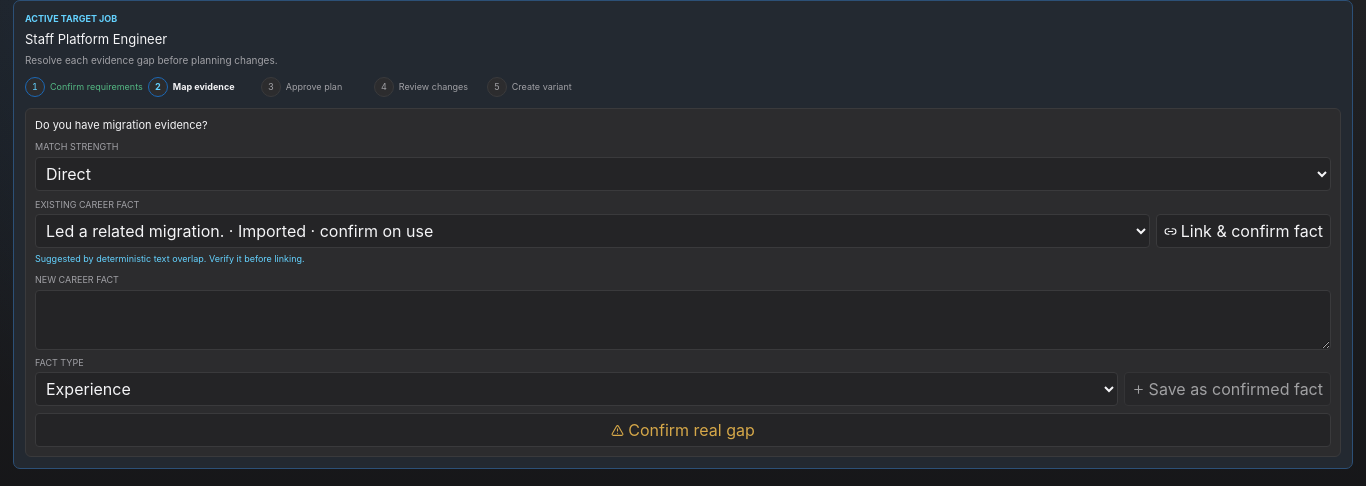
Test: AgentWorkflowPanel › links and confirms an existing imported fact for an open question
The width and height of the screenshot is (1366, 486).
Expected: the text "Suggested by deterministic text overlap. Verify it before linking." is shown, [35, 253, 305, 264]
Select "Partial" in the dropdown labelled "Match strength" at (683, 174), box [35, 157, 1331, 191]
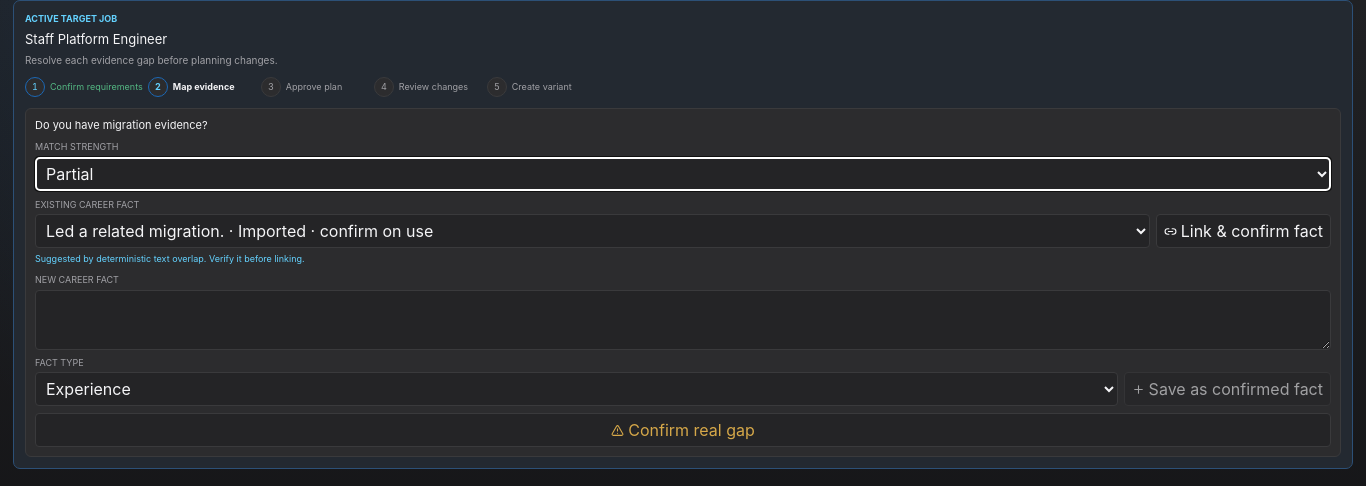
Click the button "Link & confirm fact" at (1243, 231), box [1156, 214, 1331, 248]
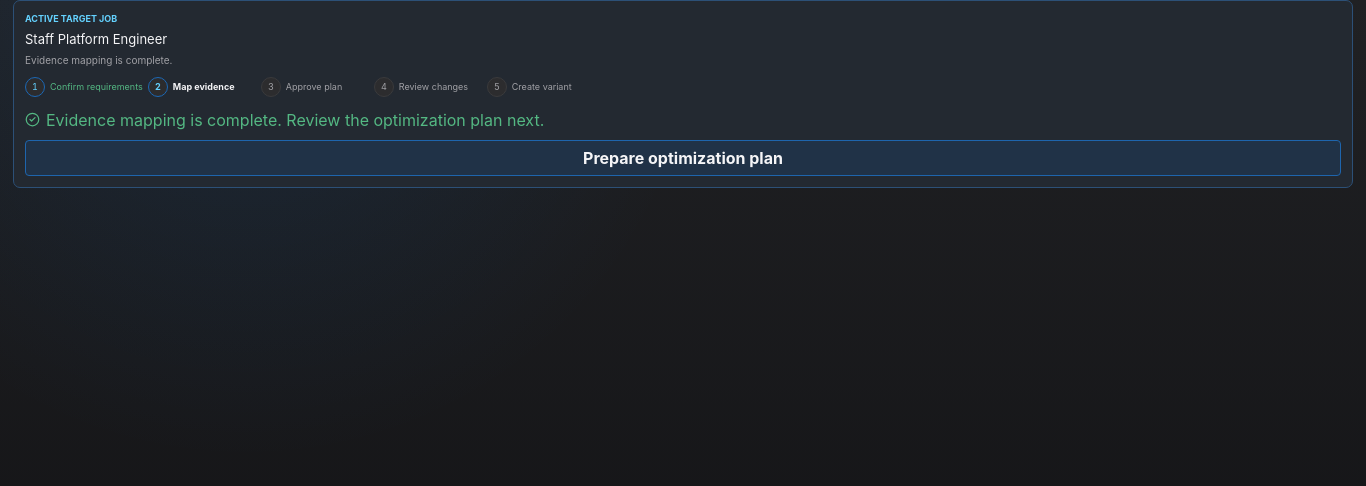
Expected: the text "Evidence mapping is complete. Review the optimization plan next." is shown, [25, 110, 544, 130]
